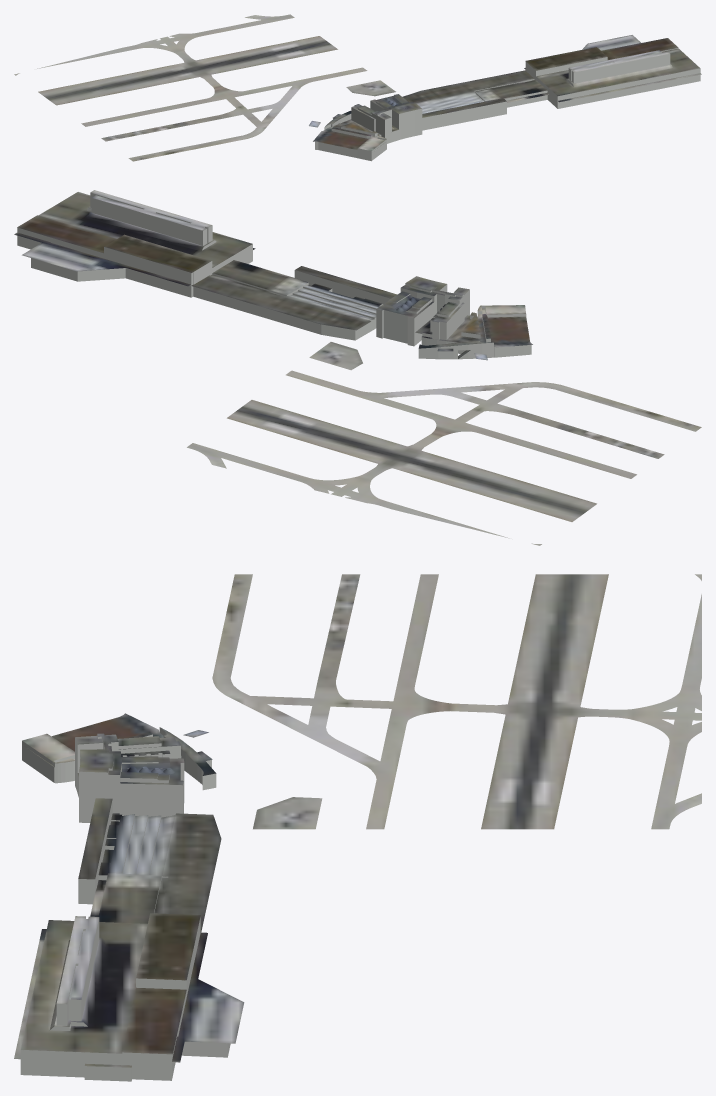
Rendered from LSZH_2_-1.glb.
The picture shows the model from 3 angles, top to bottom: view 1: azimuth 30°, elevation 25°; view 2: azimuth 150°, elevation 25°; view 3: azimuth 270°, elevation 25°; orthographic projection. The views are drawn at different scales.
Visible parts, largest first — view 1: pavement_LSZH_pavement_5369_2513, building_f4006b69231a956e, building_f046a672df22ce59; view 2: building_f4006b69231a956e, pavement_LSZH_pavement_5369_2513, building_f046a672df22ce59; view 3: building_f4006b69231a956e, pavement_LSZH_pavement_5369_2513, building_f046a672df22ce59.
Boxes of the visible parts, <box> form: pavement_LSZH_pavement_5369_2513: <box>14,14,395,161</box>; building_f4006b69231a956e: <box>313,35,701,152</box>; building_f046a672df22ce59: <box>315,48,700,161</box>; building_f4006b69231a956e: <box>14,190,532,350</box>; pavement_LSZH_pavement_5369_2513: <box>187,342,701,545</box>; building_f046a672df22ce59: <box>17,193,531,359</box>; building_f4006b69231a956e: <box>14,713,244,1067</box>; pavement_LSZH_pavement_5369_2513: <box>212,574,701,829</box>; building_f046a672df22ce59: <box>20,727,230,1081</box>.
Bounding box in the file's own units: 970 × 46.36 × 566.
3 materials, 2 textured.
